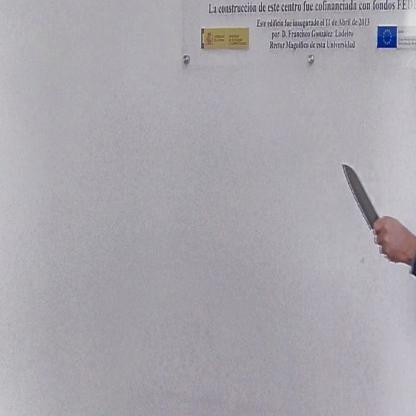knife: (338, 153, 390, 247)
